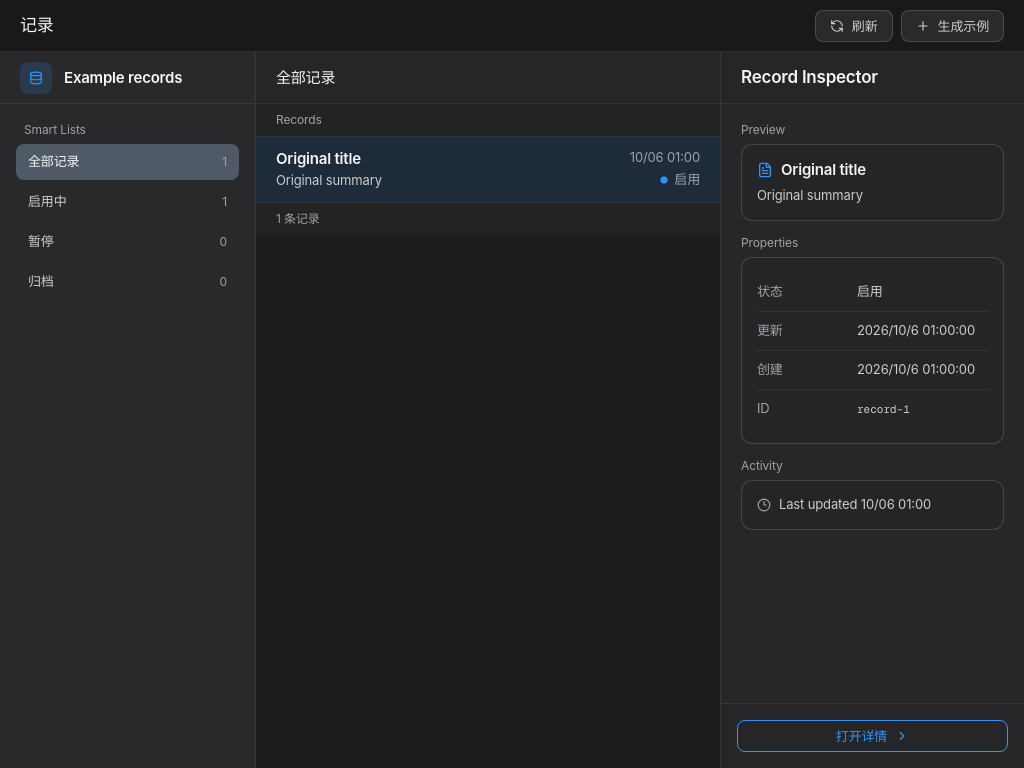
Scenario: record error recovery › retains the last list result after a refresh fails and clears the error on retry
Expected: the link "Original title Original summary 10/06 01:00 启用" is shown, 256,137 -> 720,202
What coordinates should you click on to do the following:
click the button "刷新"
I would click on:
 (854, 26)
Its box is 815,10 -> 892,42.
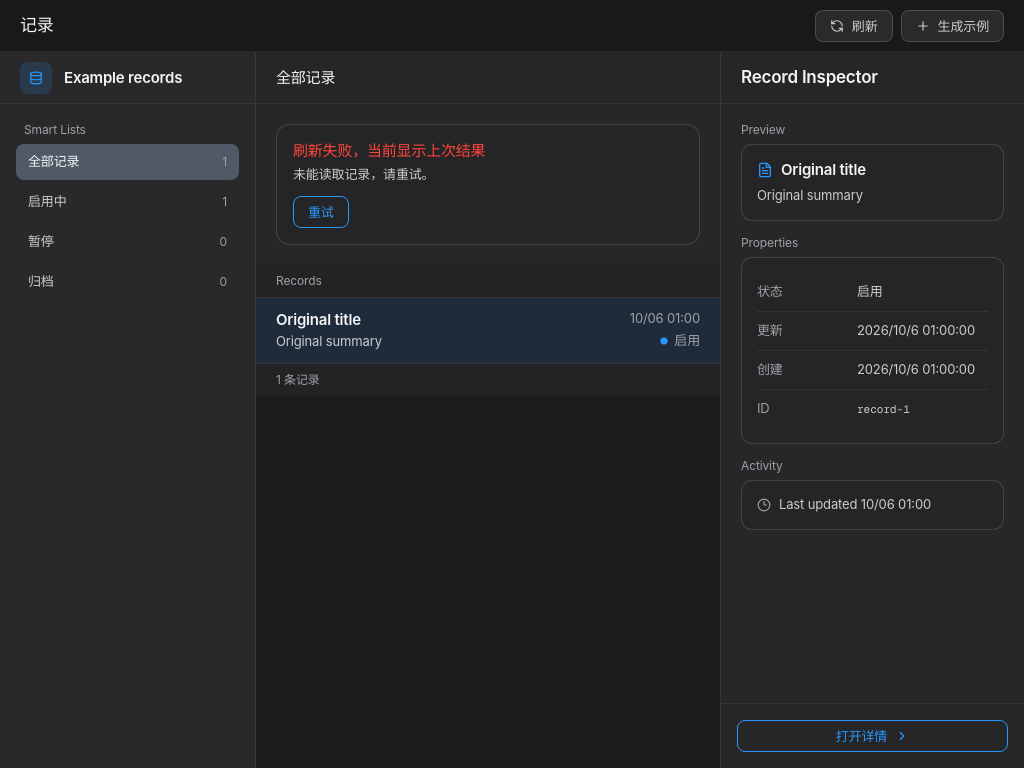
Expected: the link "Original title Original summary 10/06 01:00 启用" is shown, 256,298 -> 720,363
Expected: the message shows "刷新失败，当前显示上次结果", 293,141 -> 485,160
Expected: the button "重试" is enabled
What coordinates should you click on to do the following:
click the button "重试"
I would click on:
 (321, 212)
Its box is 293,196 -> 349,228.
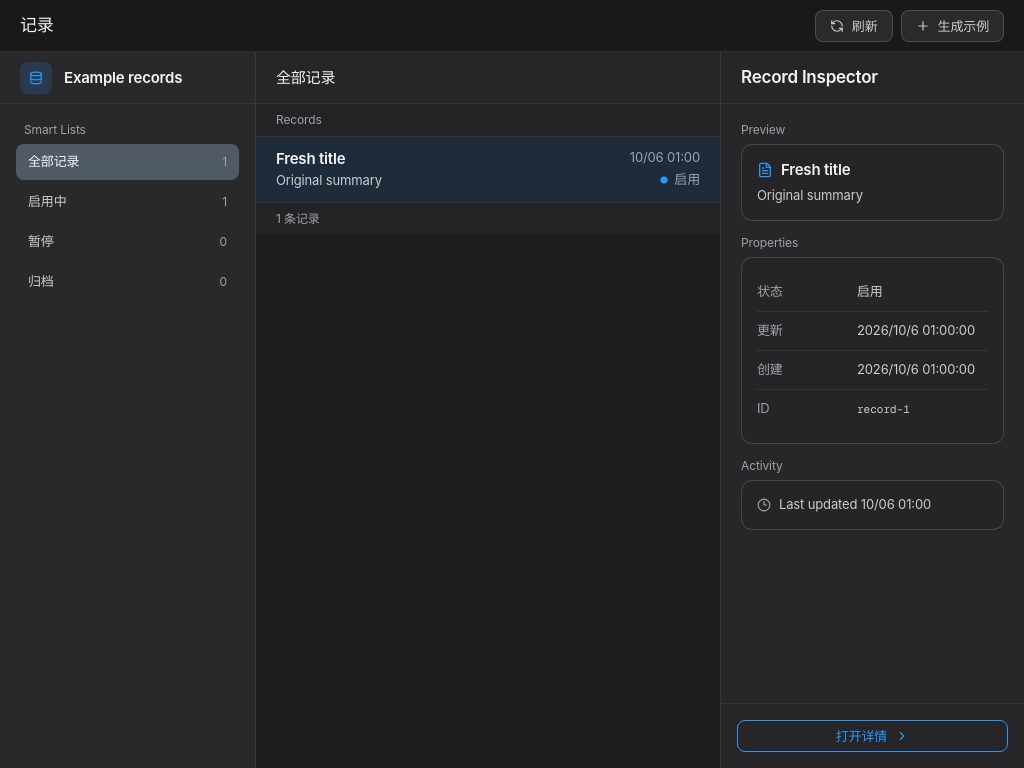
Expected: the link "Fresh title Original summary 10/06 01:00 启用" is shown, 256,137 -> 720,202
Expected: the message "刷新失败，当前显示上次结果 未能读取记录，请重试。 重试" is gone
Expected: the link "Original title" is gone
